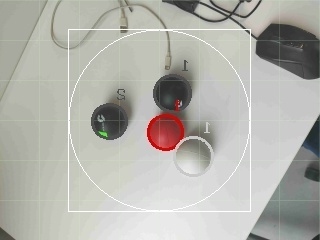Pelota blanca: (0, 0, 47, 99), (50, 0, 105, 51), (174, 135, 213, 178)
Pelota negra: (256, 21, 320, 81), (151, 73, 193, 112), (90, 103, 129, 141)
Pelota roja: (145, 113, 185, 153)
